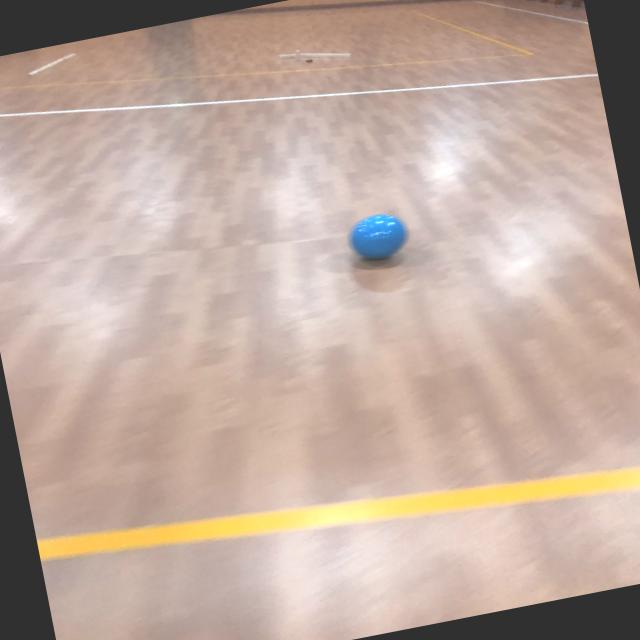blue_ball: (341, 206, 417, 266)
